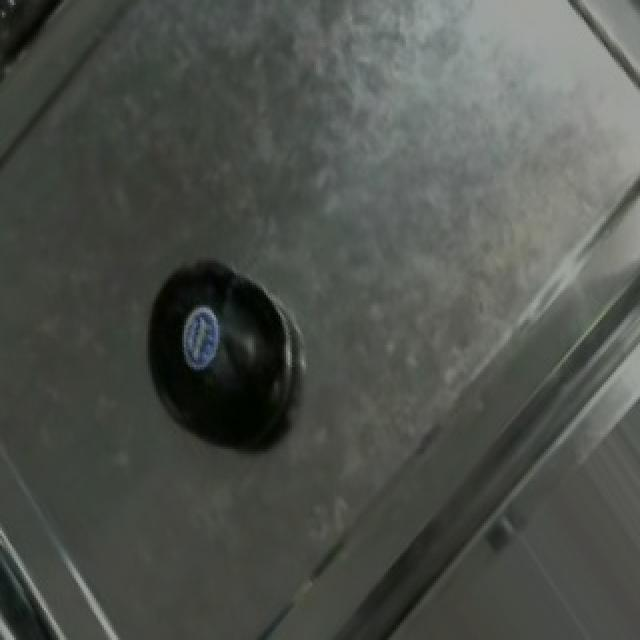Fruit: (546, 0, 640, 117), (0, 0, 98, 72)
